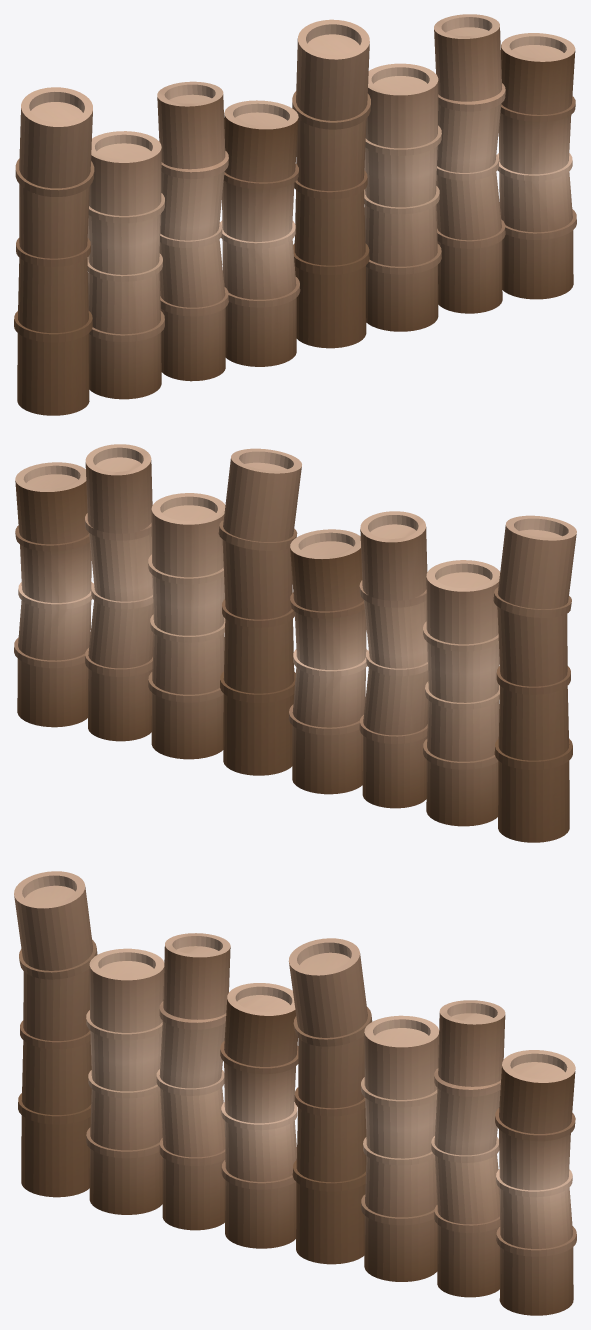
File: Bamboo.fbx
3 views of the same model, one above another, from view 1: azimuth 30°, elevation 25°; view 2: azimuth 150°, elevation 25°; view 3: azimuth 330°, elevation 25° (orthographic).
Parts seen in each view (by area): view 1: Cylinder.001, Cylinder; view 2: Cylinder.001, Cylinder; view 3: Cylinder, Cylinder.001.
Boxes of the visible parts, x1,y1,x2,y2 form: Cylinder.001: (14,81,300,415); Cylinder: (292,14,576,348); Cylinder.001: (288,511,576,842); Cylinder: (14,444,301,775); Cylinder: (288,938,576,1315); Cylinder.001: (14,871,298,1248).
Size of the model in its own units: 293 by 154 by 40.58.
Materials: 1 (1 with a texture image).
